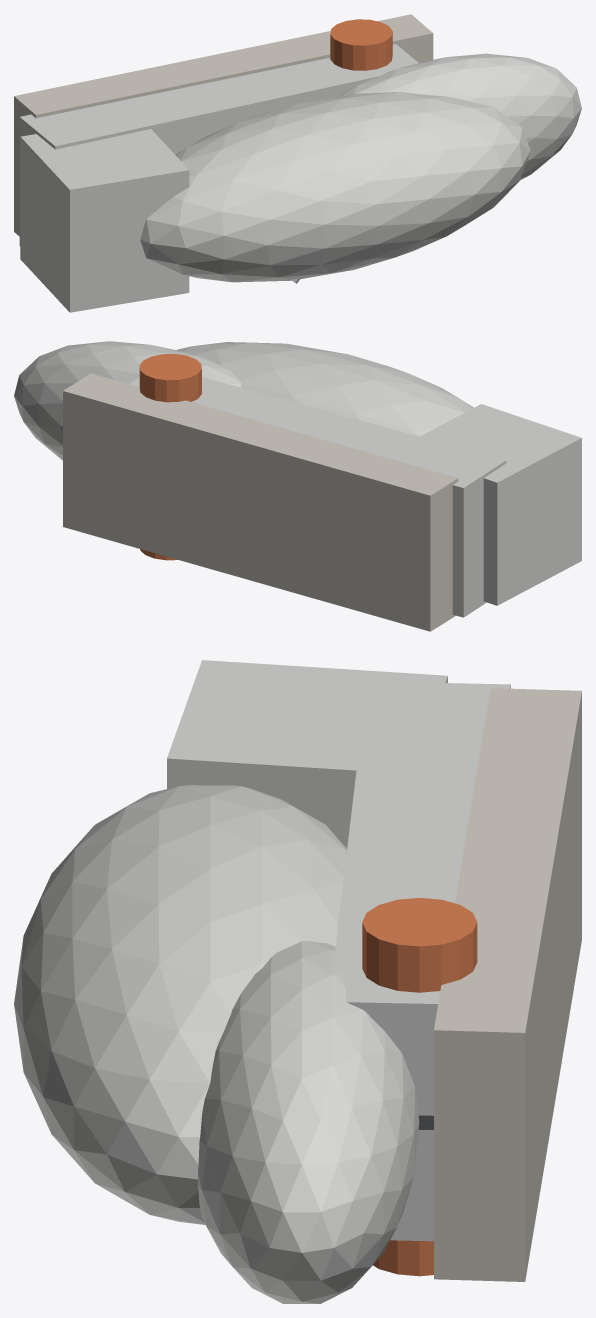
3 renders of one model, top to bottom at view 1: azimuth 30°, elevation 25°; view 2: azimuth 150°, elevation 25°; view 3: azimuth 270°, elevation 25°, orthographic. The views are drawn at different scales.
Visible parts, largest first — view 1: geometry_0; view 2: geometry_0; view 3: geometry_0.
Part boxes in pixels (bbox=[...]): geometry_0: bbox=[14, 14, 581, 312]; geometry_0: bbox=[14, 341, 581, 631]; geometry_0: bbox=[14, 660, 581, 1303].
Bounding box in the file's own units: 0.4341 × 0.139 × 0.217.
